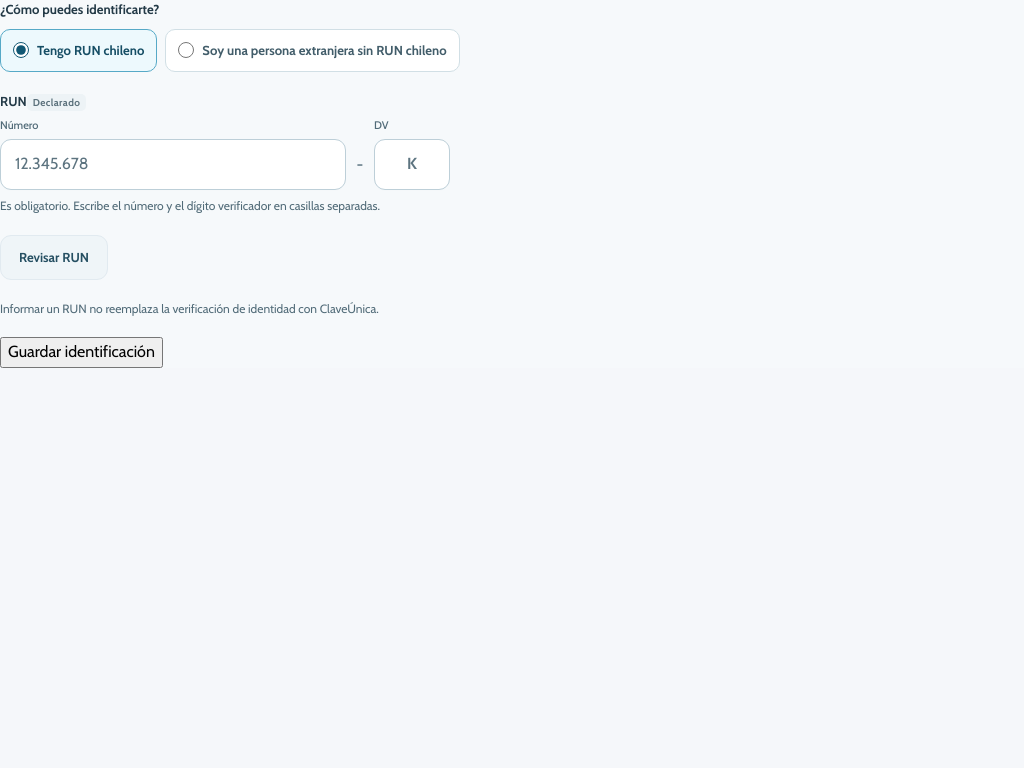
Test: Identificación ciudadana conectada al servidor › requiere módulo 11 antes de consultar y permite corregir un DV inválido
Click the button "Revisar RUN": [54, 257] box [0,235,108,280]
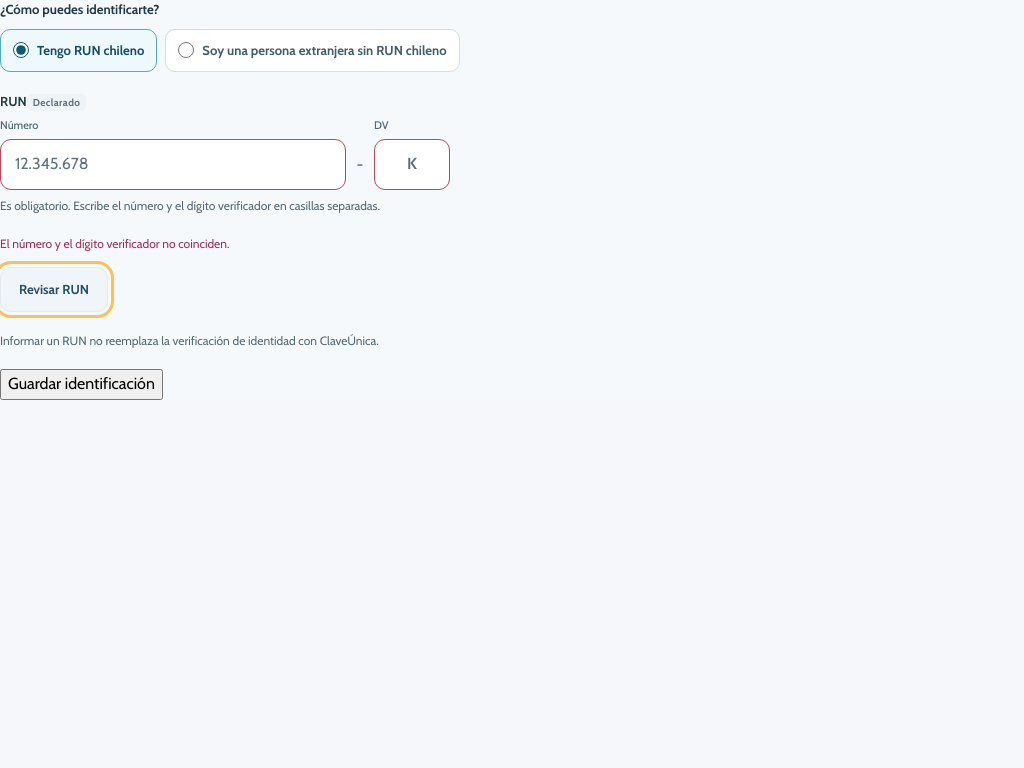
Expected: the text "El número y el dígito verificador no coinciden." is shown, [0,236,230,251]
In the field labelled "RUN": [173, 165] box [0,139,346,190], type "12345678"
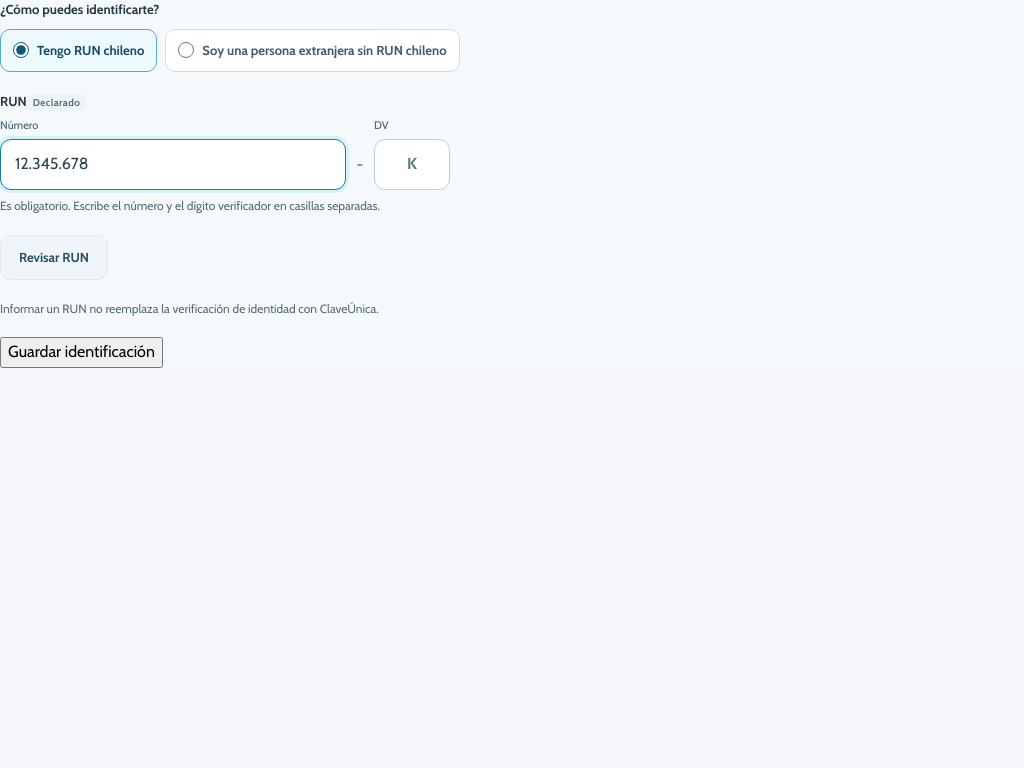
In the field named "Dígito verificador del RUN": [412, 165] box [374,139,450,190], type "5"
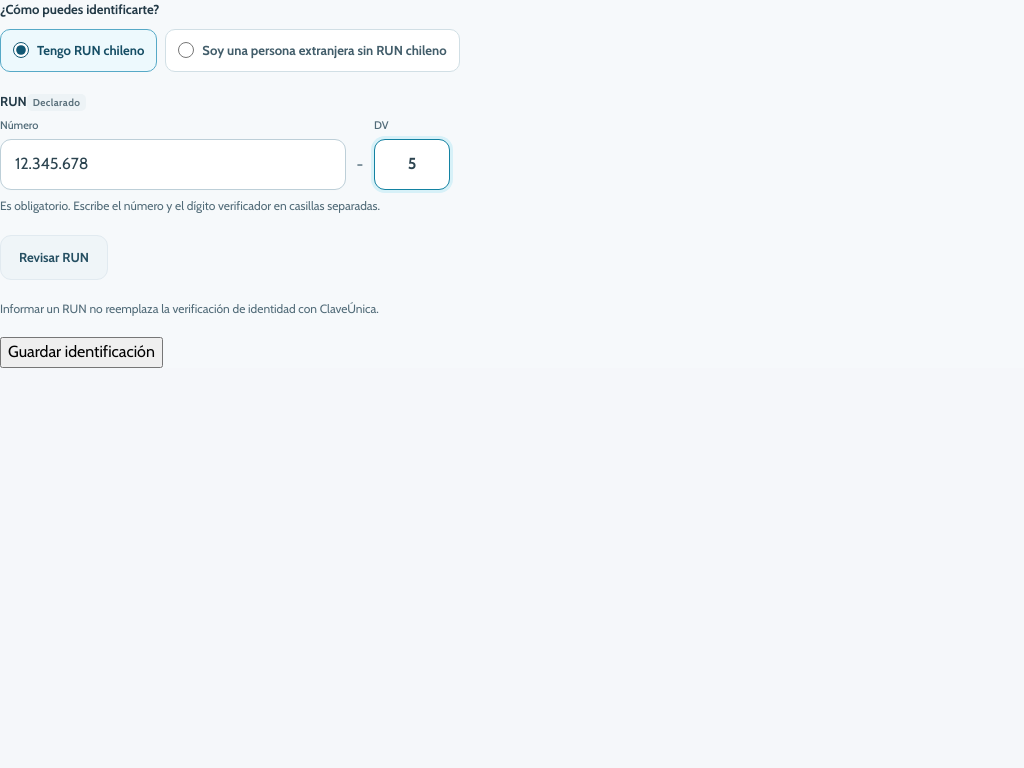
Click the button "Revisar RUN": [54, 257] box [0,235,108,280]
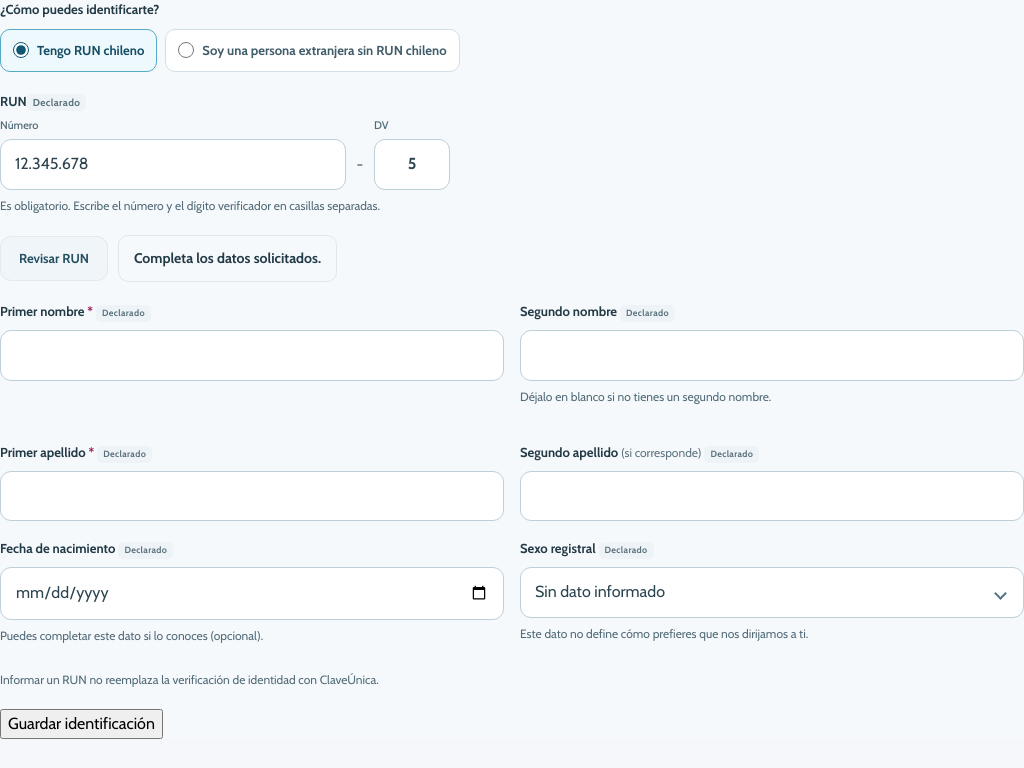
Expected: the field labelled "Primer nombre * Declarado" is shown, [0,330,504,381]
